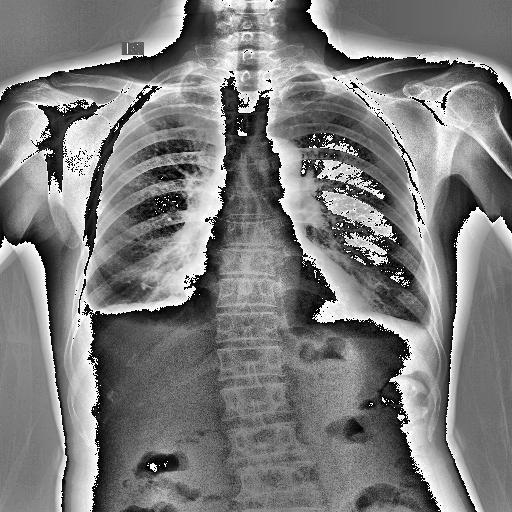0- Aortic enlargement: (254, 136, 304, 194)
10- Pleural effusion: (67, 292, 198, 344), (74, 290, 142, 330), (69, 290, 104, 339), (416, 306, 437, 344), (412, 316, 440, 340), (416, 318, 438, 342)
11- Pleural thickening: (416, 306, 437, 344), (412, 316, 440, 340), (416, 318, 438, 342)
